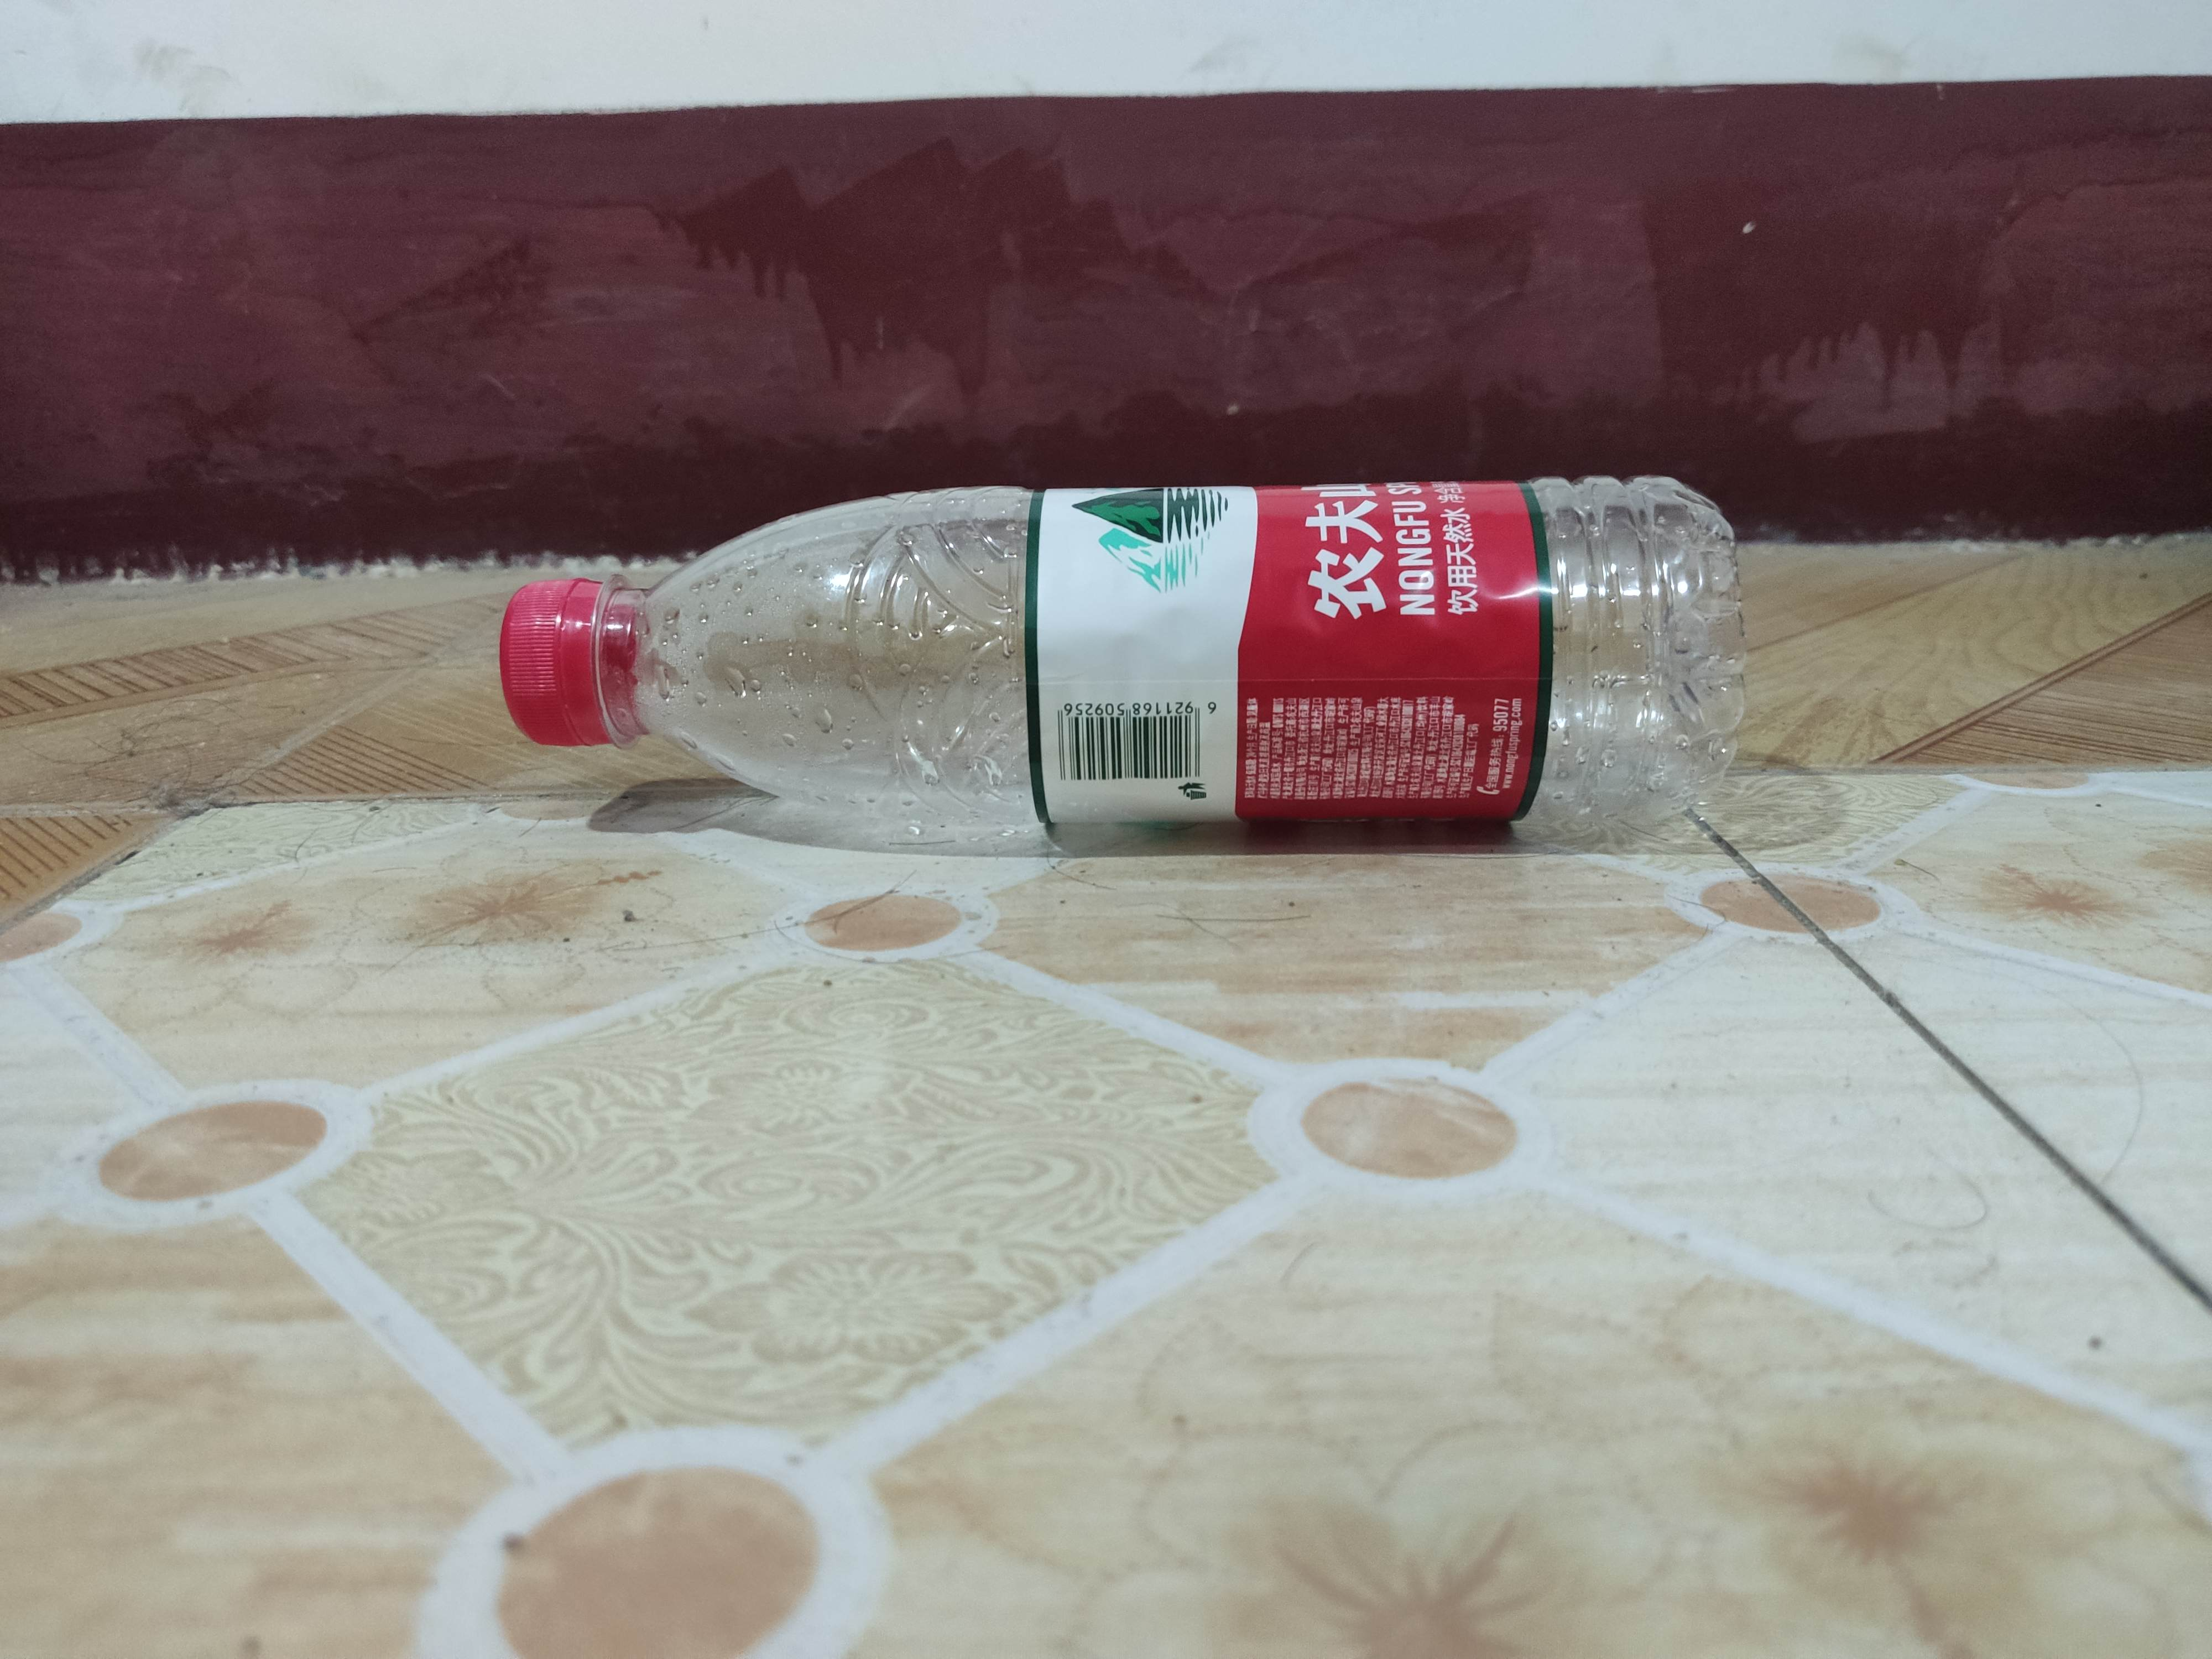Plastic Bottle: (495, 467, 1752, 835)
